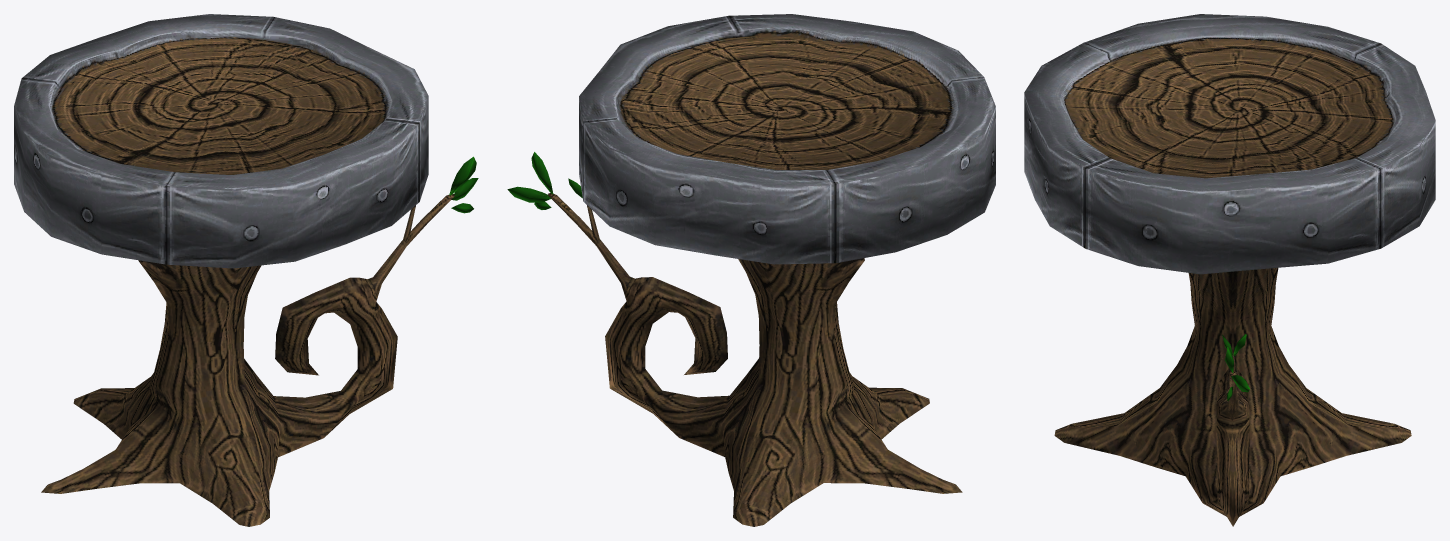
Rendered from table.fbx.
The picture shows the model from 3 angles, left to right: view 1: azimuth 30°, elevation 25°; view 2: azimuth 150°, elevation 25°; view 3: azimuth 270°, elevation 25°; orthographic projection.
Parts seen in each view (by area): view 1: node_id39; view 2: node_id39; view 3: node_id39.
Boxes of the visible parts, x1,y1,x2,y2 form: node_id39: (14,14,478,526); node_id39: (507,14,995,526); node_id39: (1024,14,1435,526).
Bounding box in the file's own units: 0.512 × 0.3763 × 0.3966.
1 material, 1 textured.
